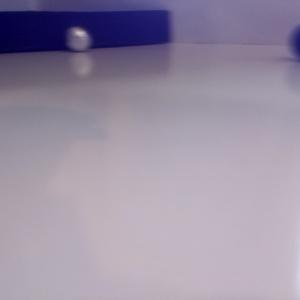zone: (1, 9, 170, 52)
